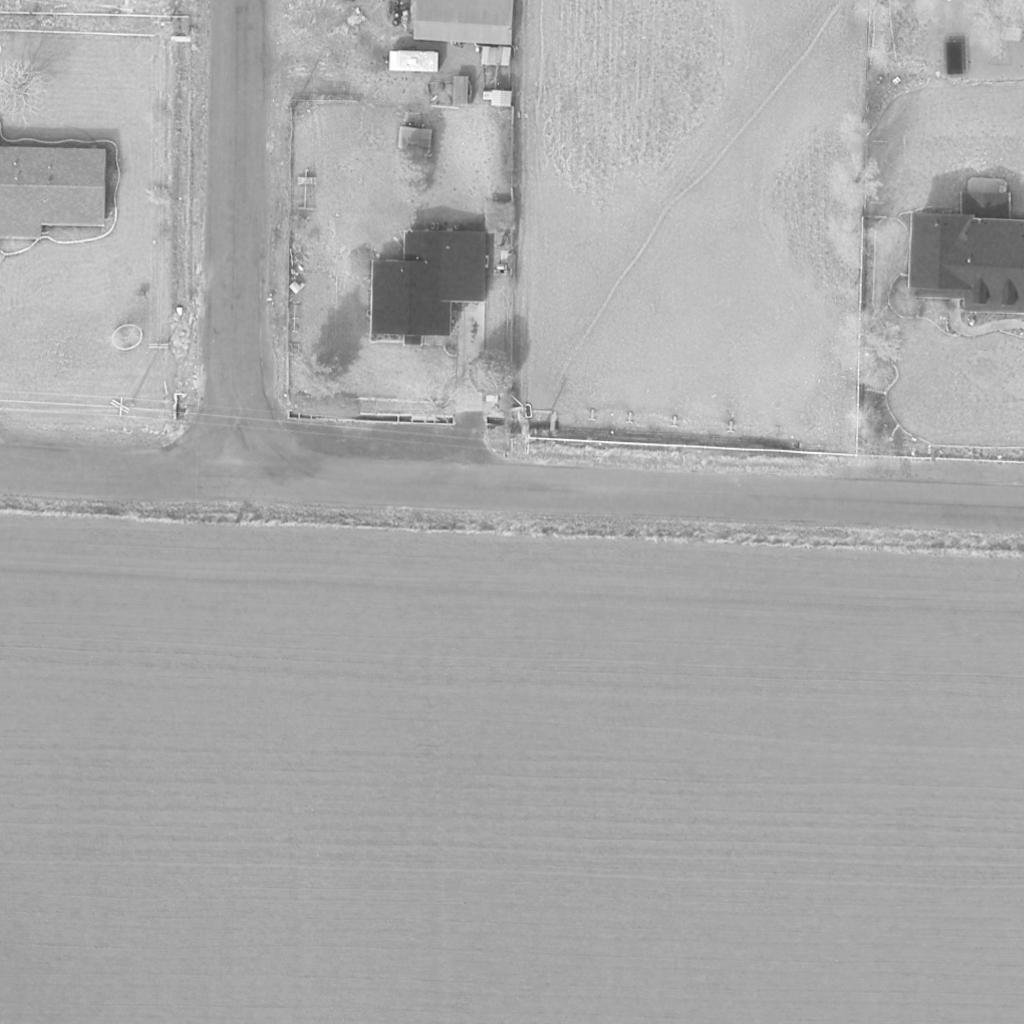vehicle: (383, 50, 439, 72)
